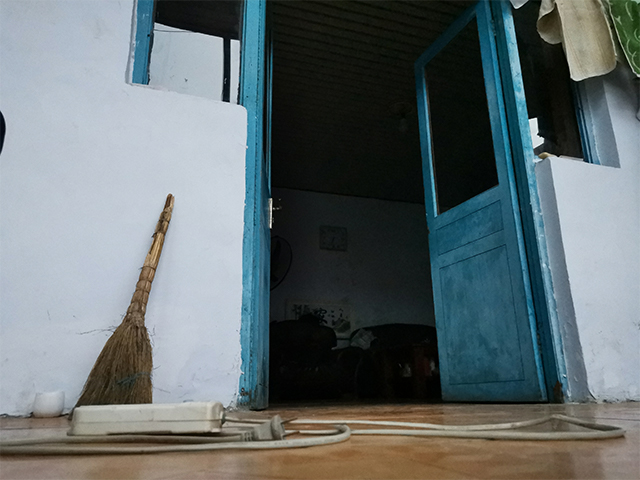sofa: (268, 318, 362, 400)
table: (372, 339, 441, 400)
wire: (1, 397, 627, 459)
